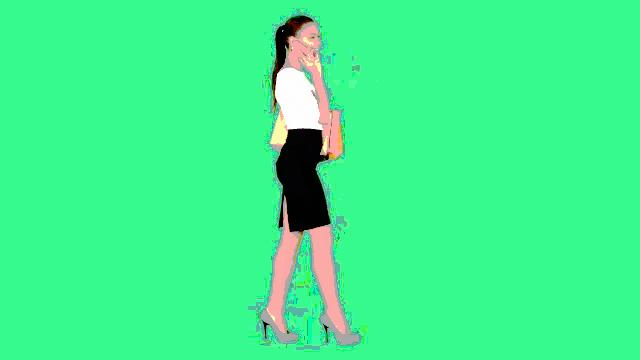berjalan: (261, 10, 363, 350)
